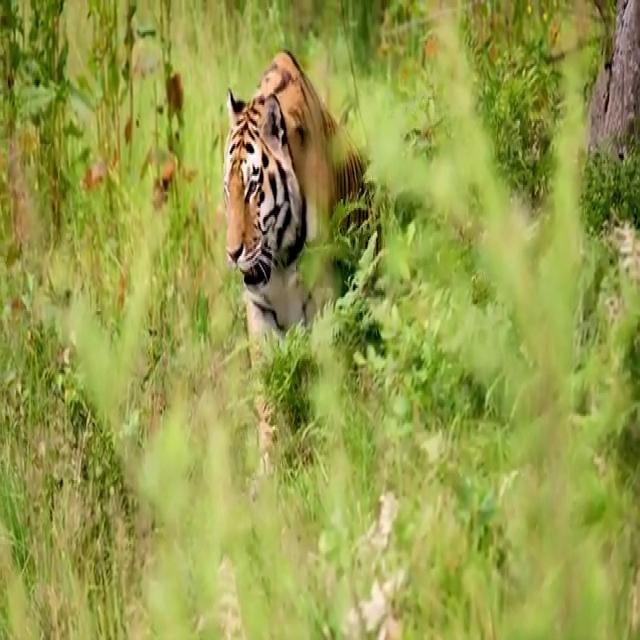tiger: (220, 46, 384, 498)
